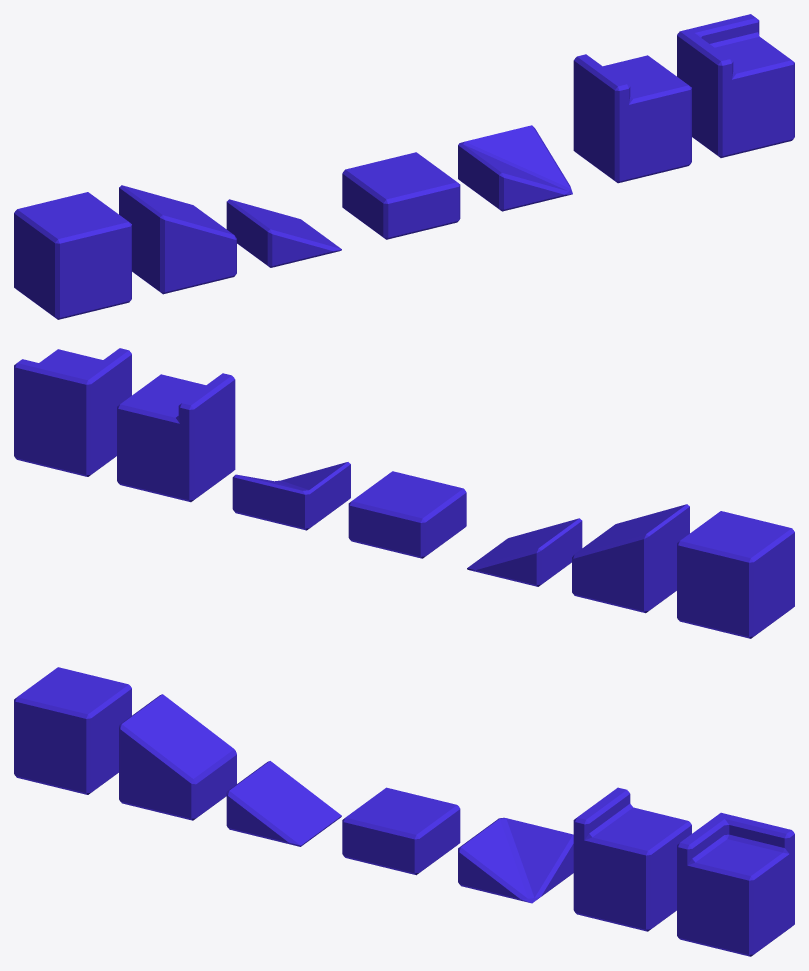
Rendered from world-blocks-v1.glb.
The picture shows the model from 3 angles, top to bottom: view 1: azimuth 30°, elevation 25°; view 2: azimuth 150°, elevation 25°; view 3: azimuth 330°, elevation 25°; orthographic projection.
Visible parts, largest first — view 1: BlockWallCorner, BlockWall, Block, RampTop, BlockShort, RampLowerCorner, RampBottom; view 2: BlockWall, Block, BlockWallCorner, RampTop, BlockShort, RampLowerCorner, RampBottom; view 3: BlockWallCorner, BlockWall, Block, RampTop, BlockShort, RampLowerCorner, RampBottom.
Part boxes in pixels (<box>): BlockWallCorner: <box>677,14,794,157</box>; BlockWall: <box>573,54,691,183</box>; Block: <box>14,192,131,319</box>; RampTop: <box>119,185,236,294</box>; BlockShort: <box>342,152,460,239</box>; RampLowerCorner: <box>458,125,572,211</box>; RampBottom: <box>226,199,341,267</box>; BlockWall: <box>117,373,235,502</box>; Block: <box>677,511,794,638</box>; BlockWallCorner: <box>14,348,131,476</box>; RampTop: <box>572,504,689,613</box>; BlockShort: <box>348,471,466,558</box>; RampLowerCorner: <box>232,462,350,530</box>; RampBottom: <box>467,518,582,586</box>; BlockWallCorner: <box>677,812,794,956</box>; BlockWall: <box>573,787,691,931</box>; Block: <box>14,667,131,794</box>; RampTop: <box>119,694,236,820</box>; BlockShort: <box>342,787,460,875</box>; RampLowerCorner: <box>458,817,573,903</box>; RampBottom: <box>226,761,341,846</box>.
Size of what is drawn, in the model's own units: 19.18 by 2.4 by 2.
